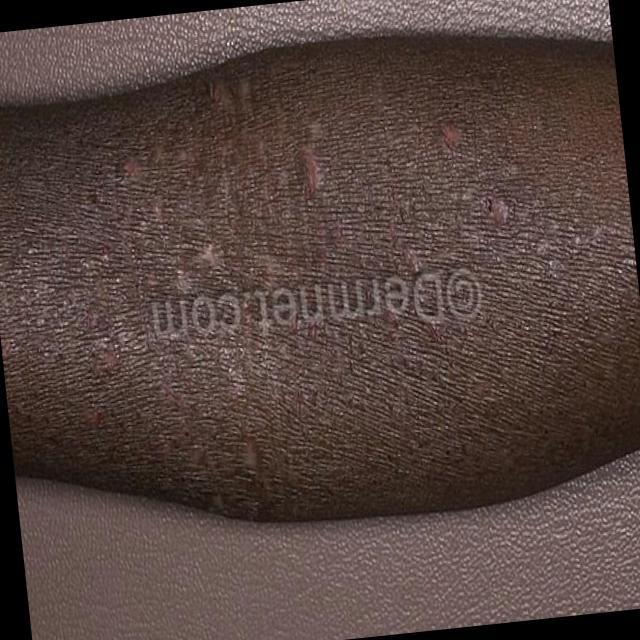Eczema: (122, 82, 564, 480)
